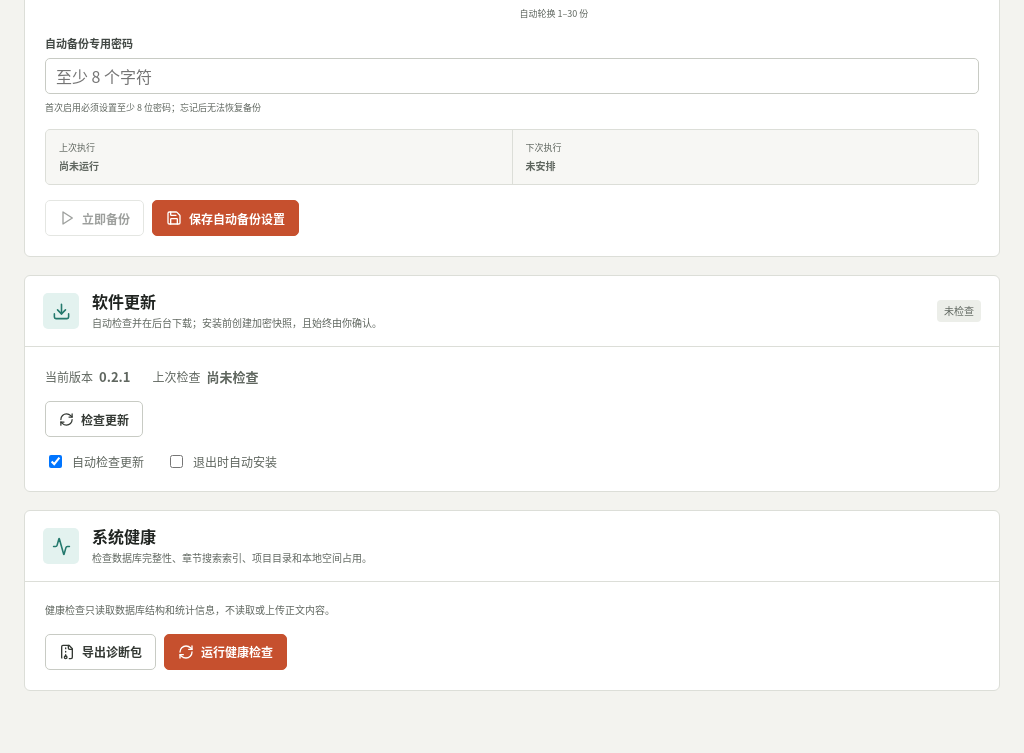
Test case: settings software update › shows the current version and reports a manual check
(page scrolled)
Expected: the text "0.2.1" is shown, 99,367 -> 130,386
Click the button "检查更新". click: [94, 419]
box: 45,401 -> 143,437
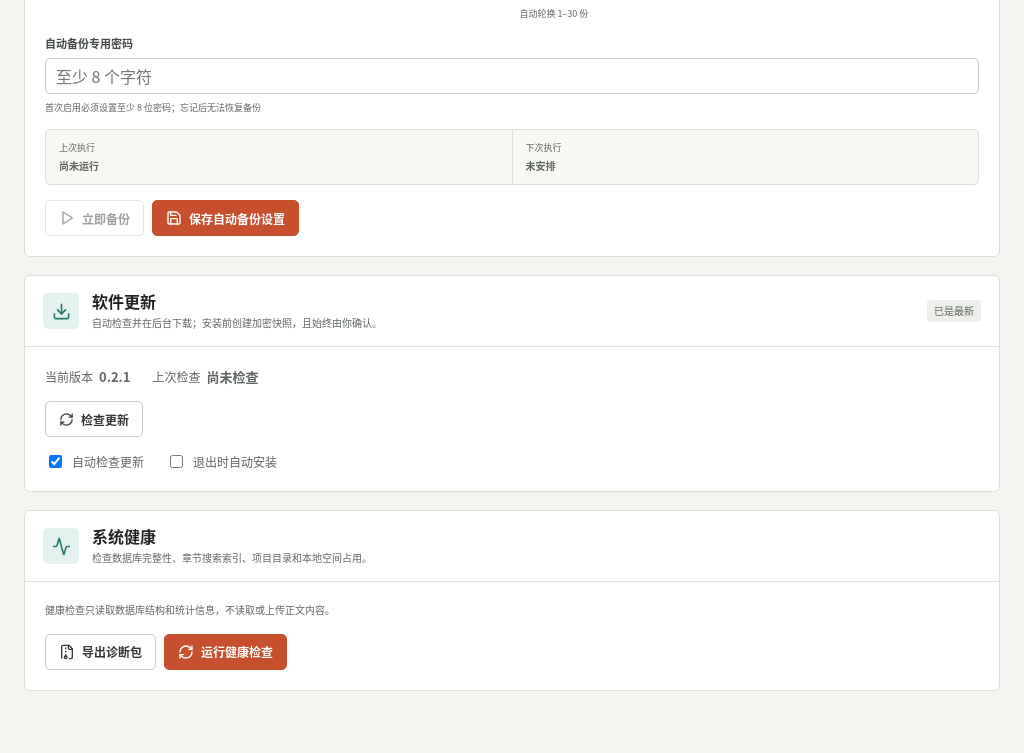
Now the text "已是最新" is shown, box 927,300 -> 981,322
